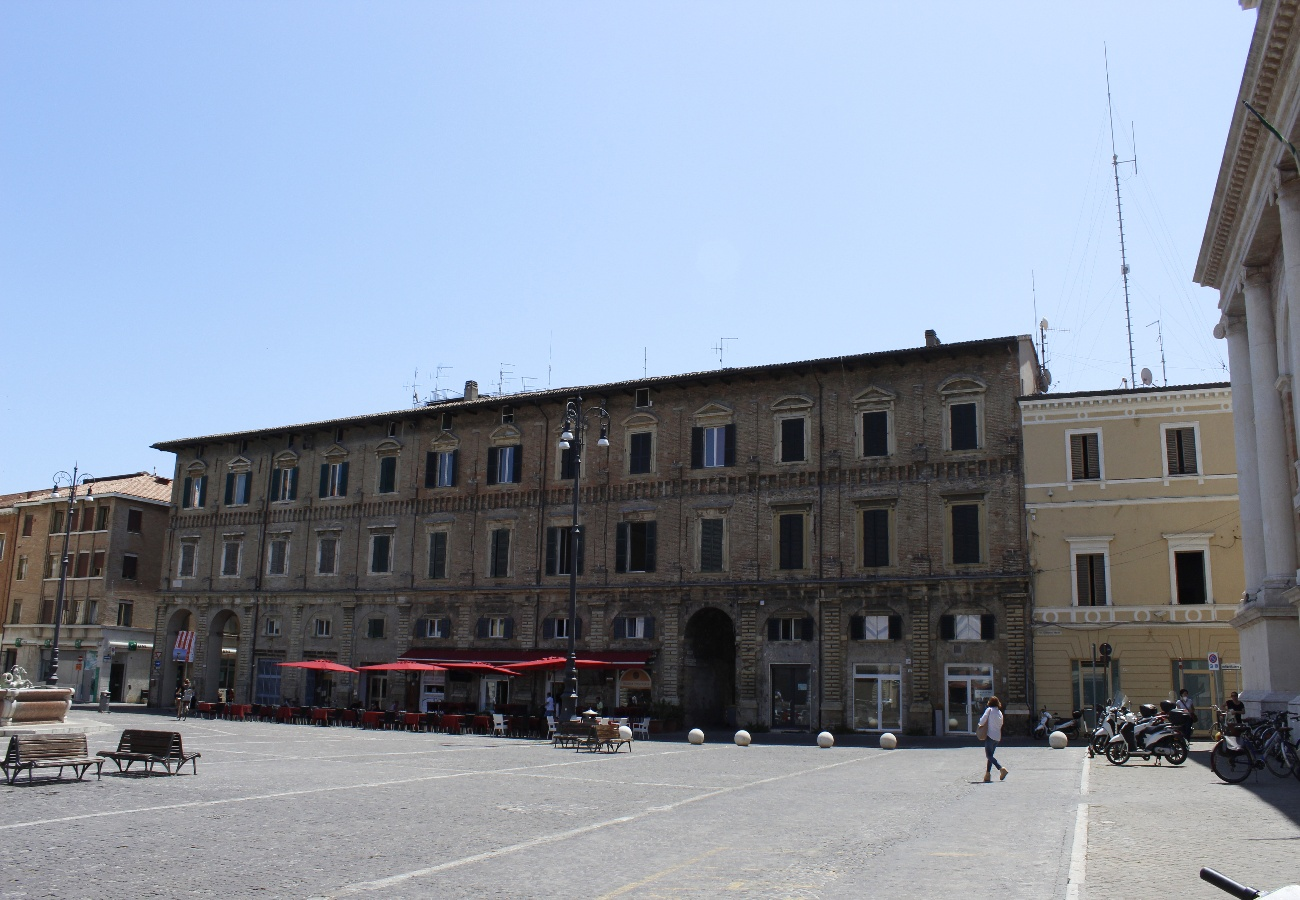Palazzo Baviera: (163, 353, 1010, 732)
